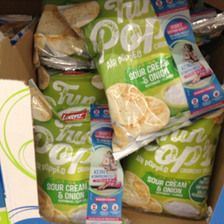chips: (59, 1, 222, 151), (30, 86, 124, 223)
